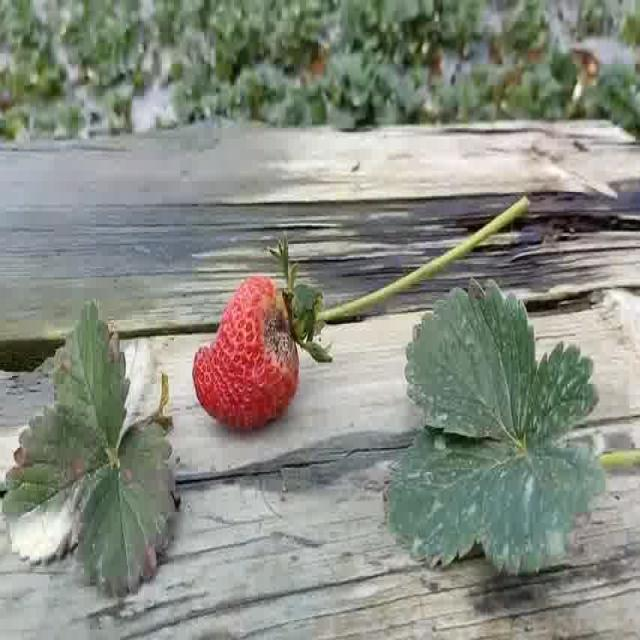Mancha negra Antracnosis: (191, 266, 302, 428)
